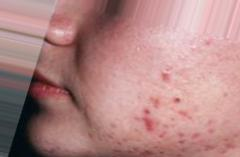Acne: (131, 101, 160, 134), (148, 84, 187, 106), (155, 62, 182, 91)
